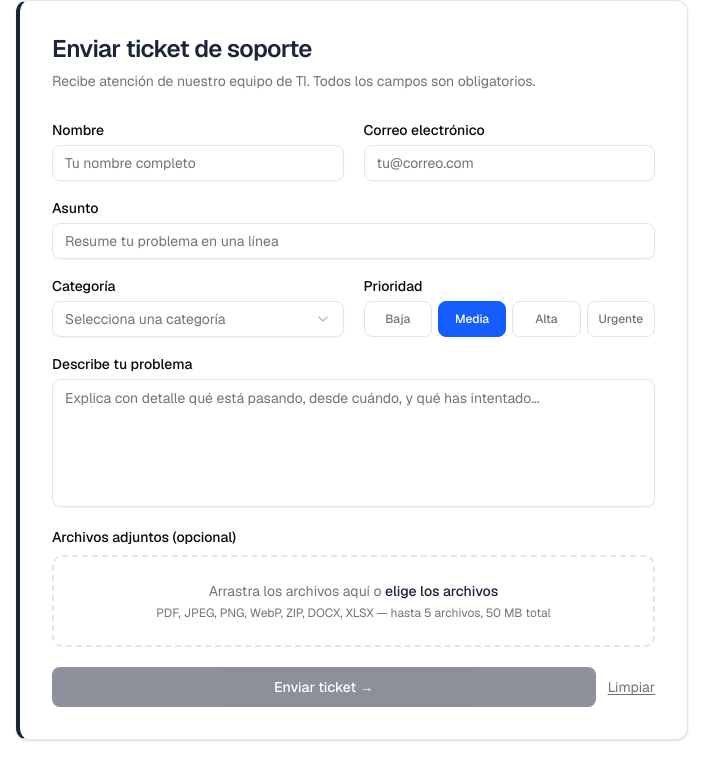
Test case: 'Limpiar' action row button › shows confirm state when clicked
Click the button "Limpiar" at x=631, y=687, box left=608, top=677, right=655, bottom=697
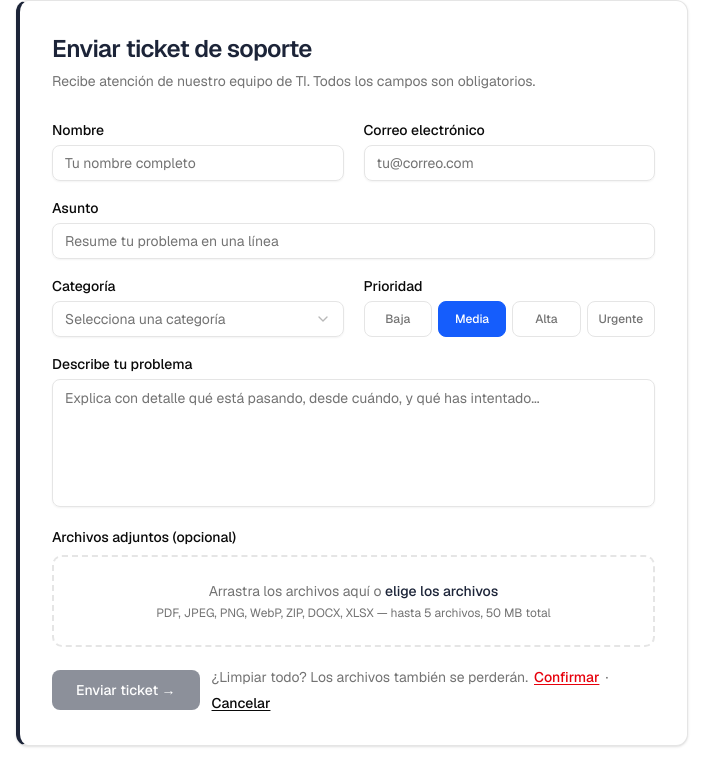
Result: the text "¿Limpiar todo? Los archivos también se perderán." is shown at left=212, top=667, right=528, bottom=687
Result: the button "Confirmar" is shown at left=534, top=667, right=599, bottom=687
Result: the button "Cancelar" is shown at left=212, top=693, right=270, bottom=713
